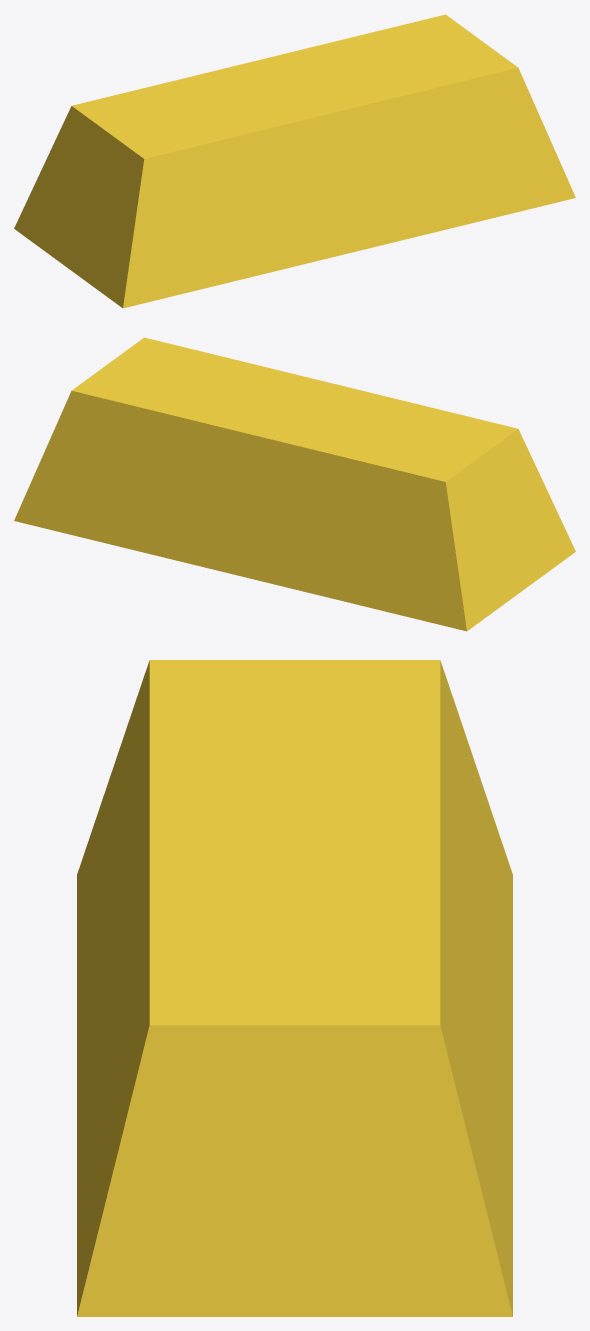
The model's file is Gold.fbx.
The picture shows the model from 3 angles, top to bottom: view 1: azimuth 30°, elevation 25°; view 2: azimuth 150°, elevation 25°; view 3: azimuth 270°, elevation 25°; orthographic projection. The views are drawn at different scales.
Visible parts, largest first — view 1: Cube; view 2: Cube; view 3: Cube.
Boxes of the visible parts, x1=… form: Cube: x1=14, y1=14, x2=575, y2=308; Cube: x1=14, y1=337, x2=575, y2=631; Cube: x1=77, y1=660, x2=512, y2=1316.
Bounding box in the file's own units: 480 × 128 × 200.
